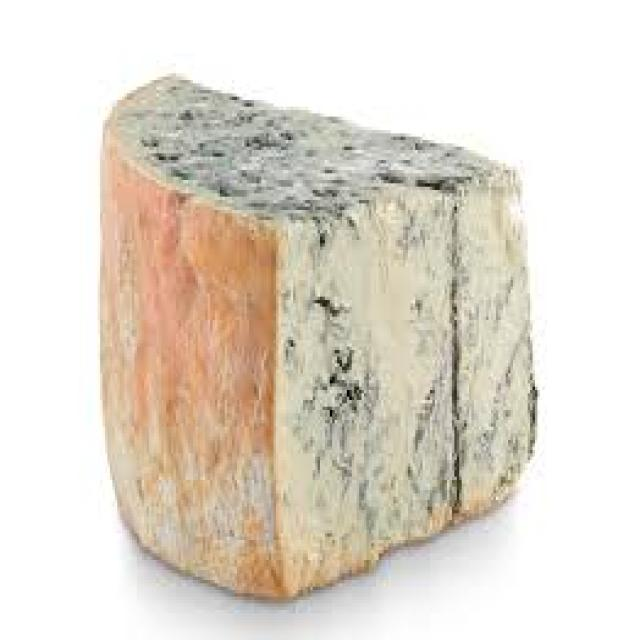Cheese: (89, 43, 538, 602)
